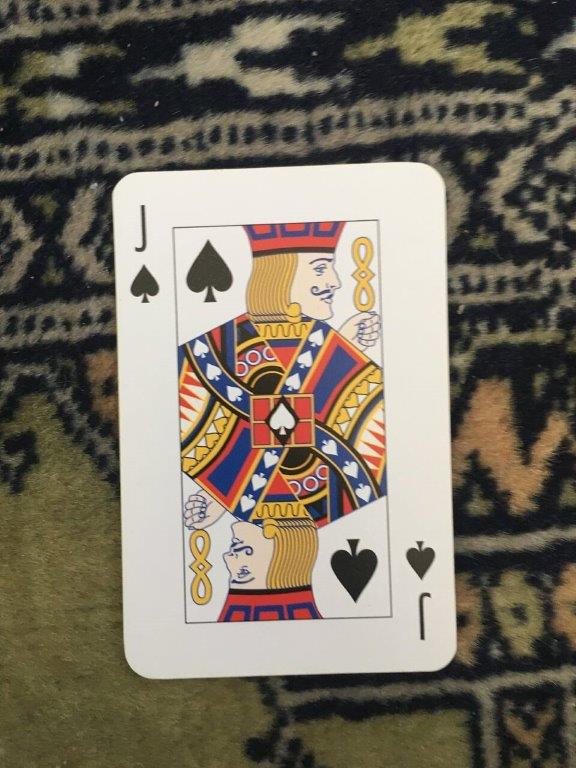JS: (108, 157, 462, 682)
